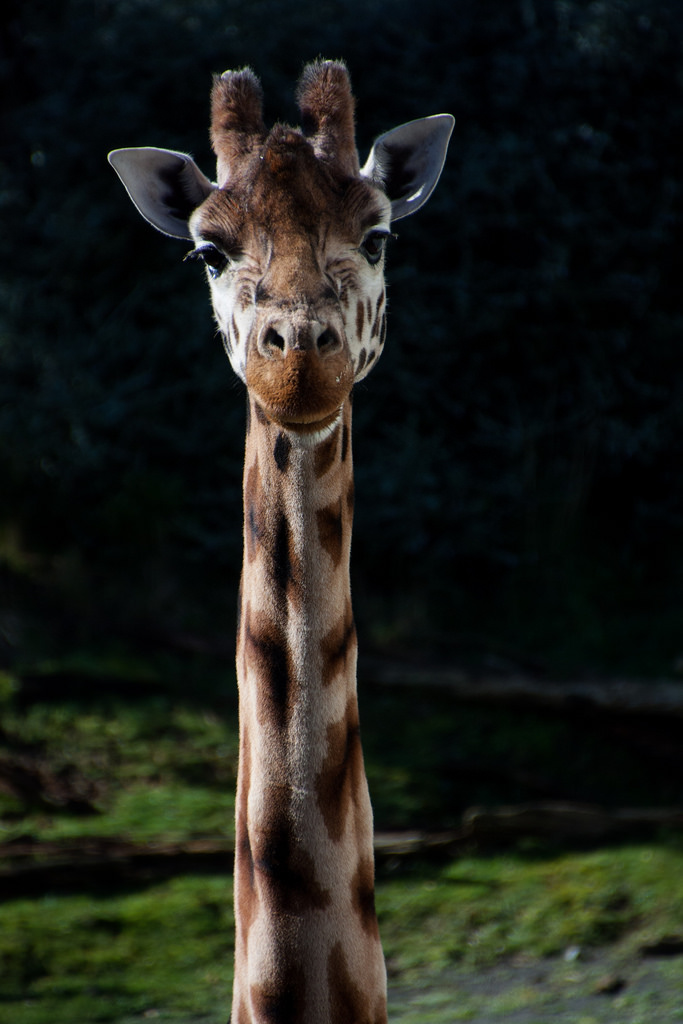giraffe: (106, 50, 506, 975)
